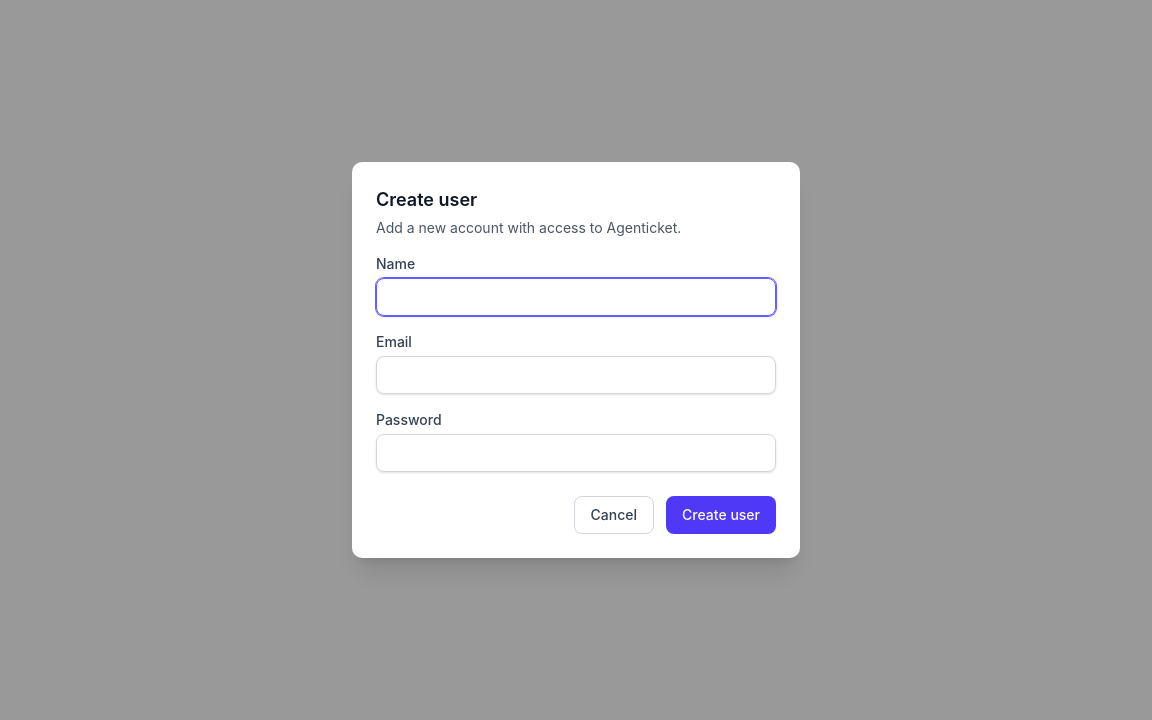
Test case: NewUserModal › surfaces the server error message and stays open on failure
In the field labelled "Name": (576, 297) [376,278,776,316], type "Ada Lovelace"
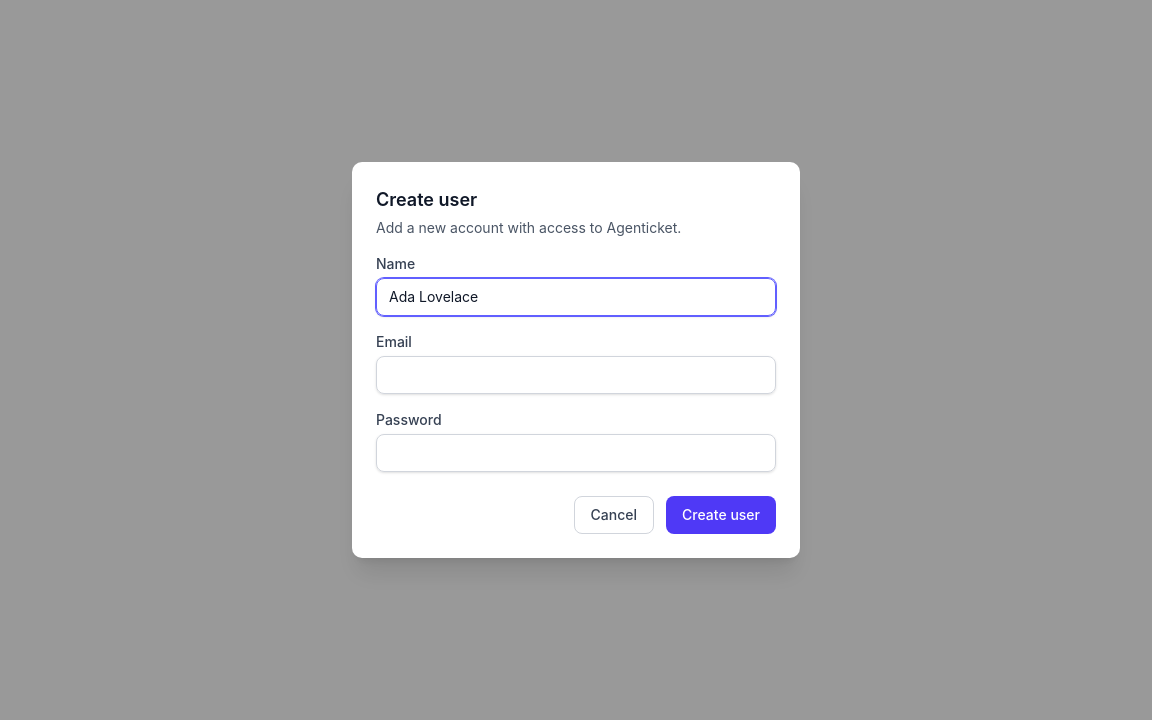
In the field labelled "Email": (576, 375) [376,356,776,394], type "ada@example.com"
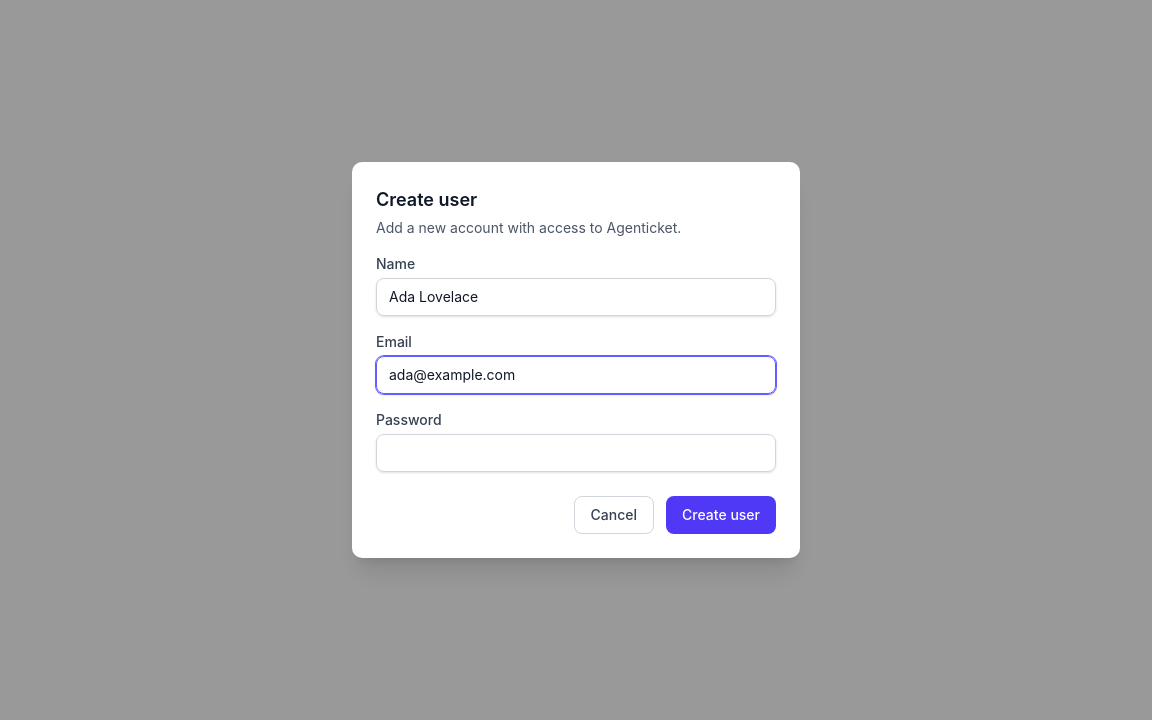
In the password field labelled "Password": (576, 453) [376,434,776,472], type "supersecret"
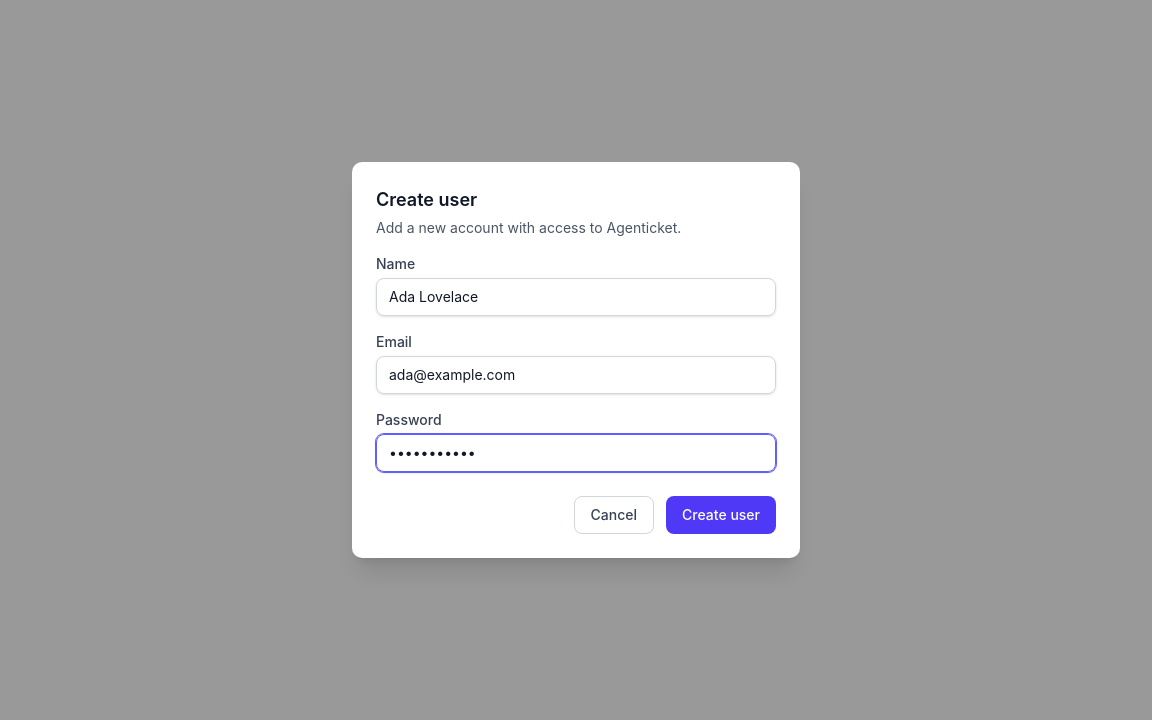
Click the button "Create user": (721, 515) [666,496,776,534]
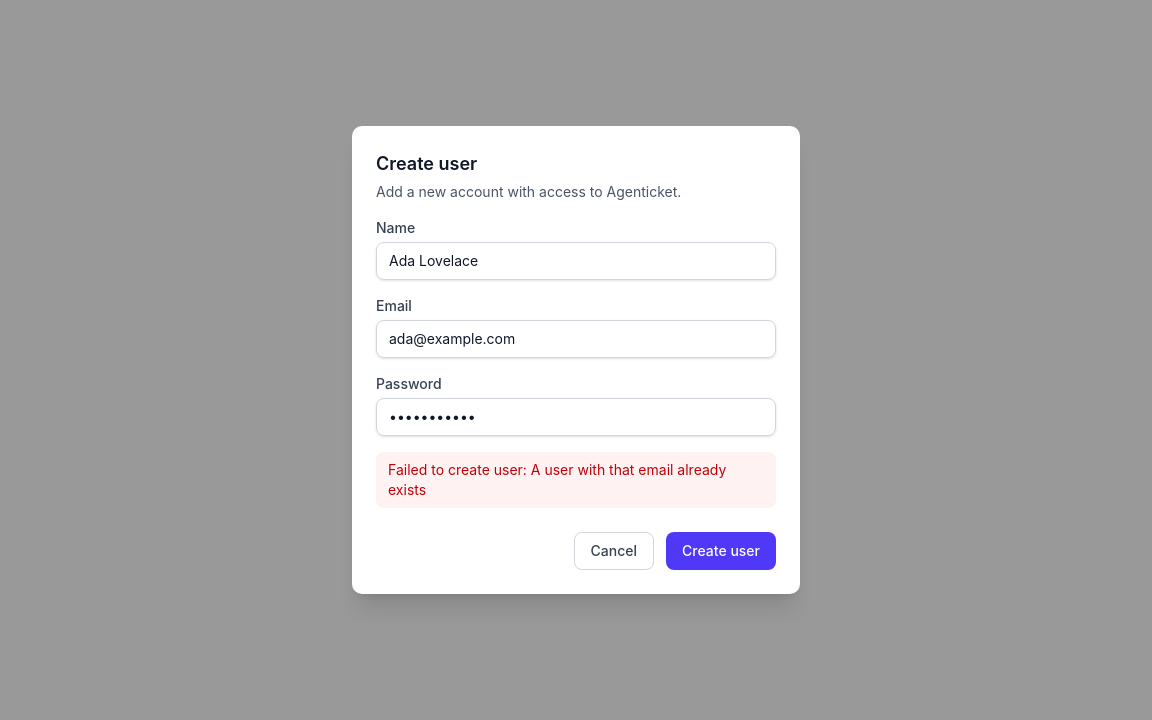
Expected: the text "Failed to create user: A user with that email already exists" is shown, [376,452,776,508]
